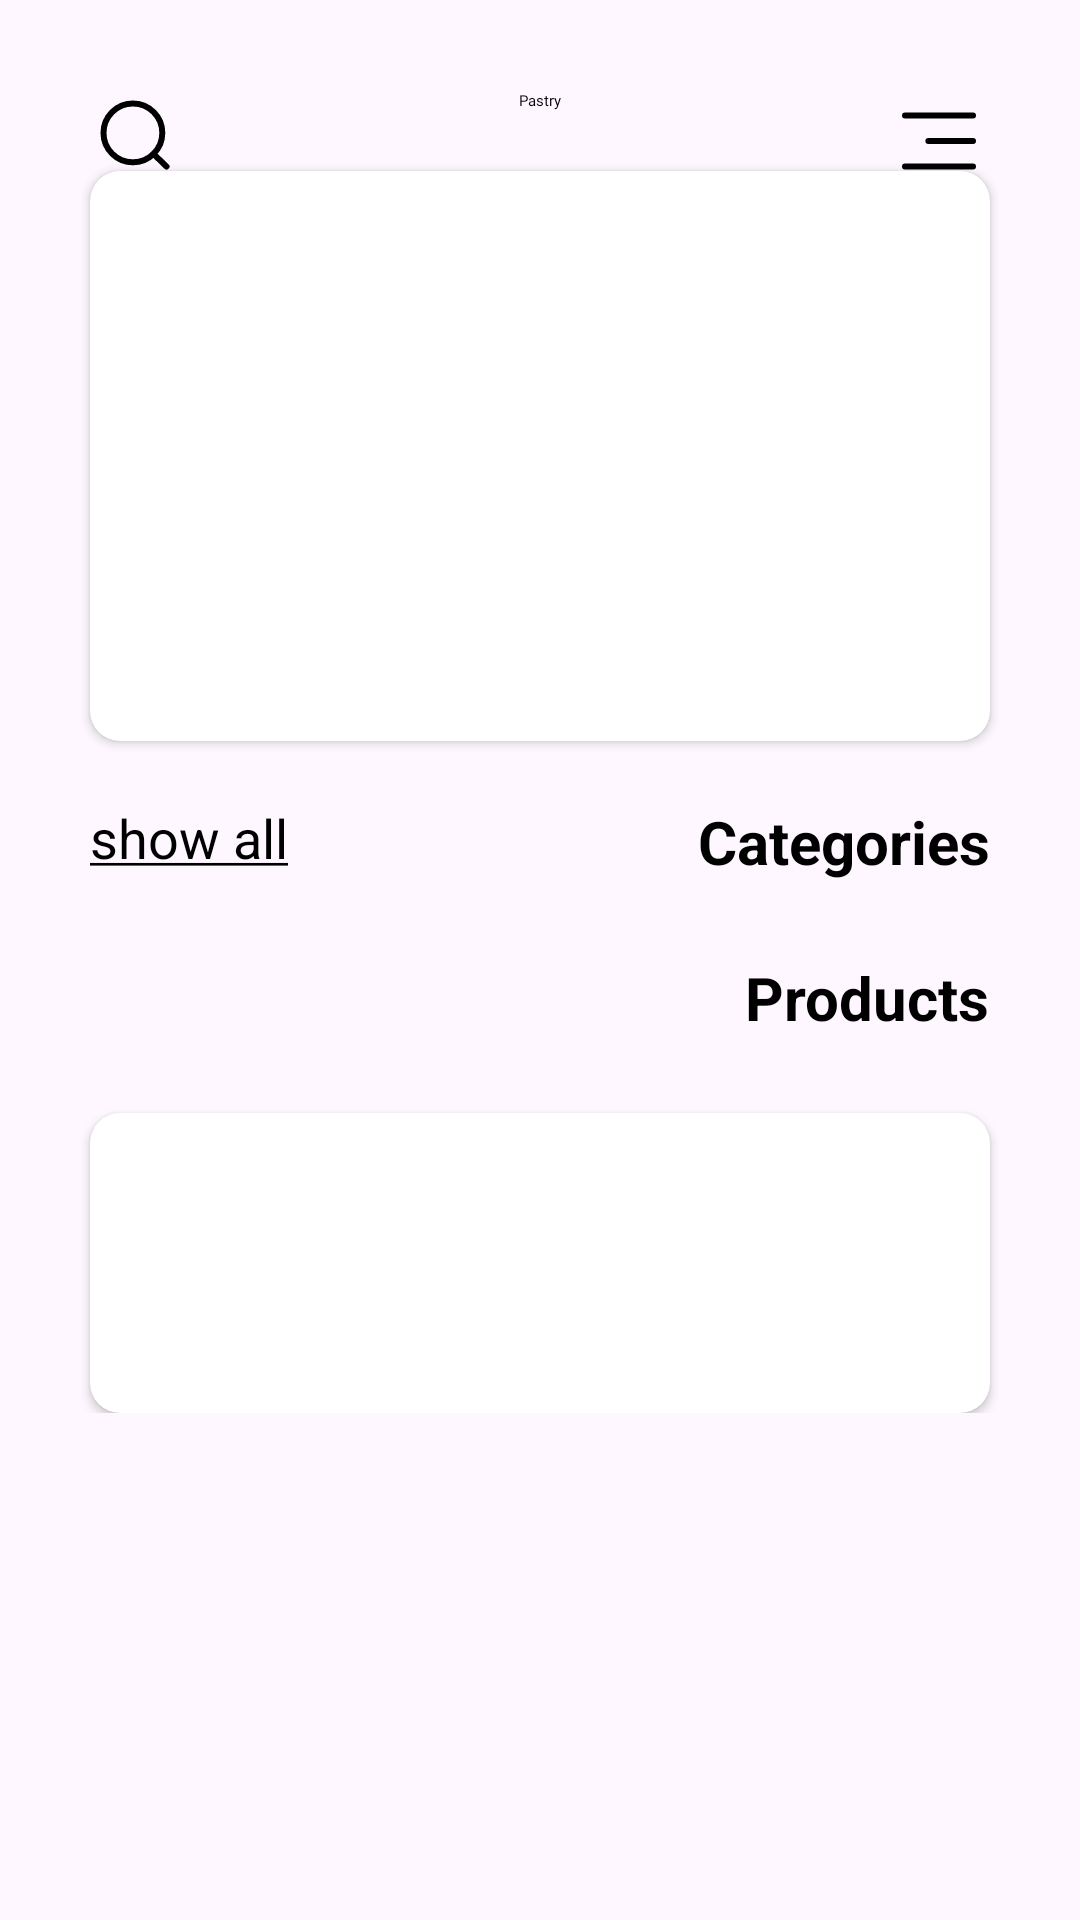

Screen size 1080px×1920px. Icon name, then its center in pixels as [x,y]:
list: [939,144]
search: [134,140]
